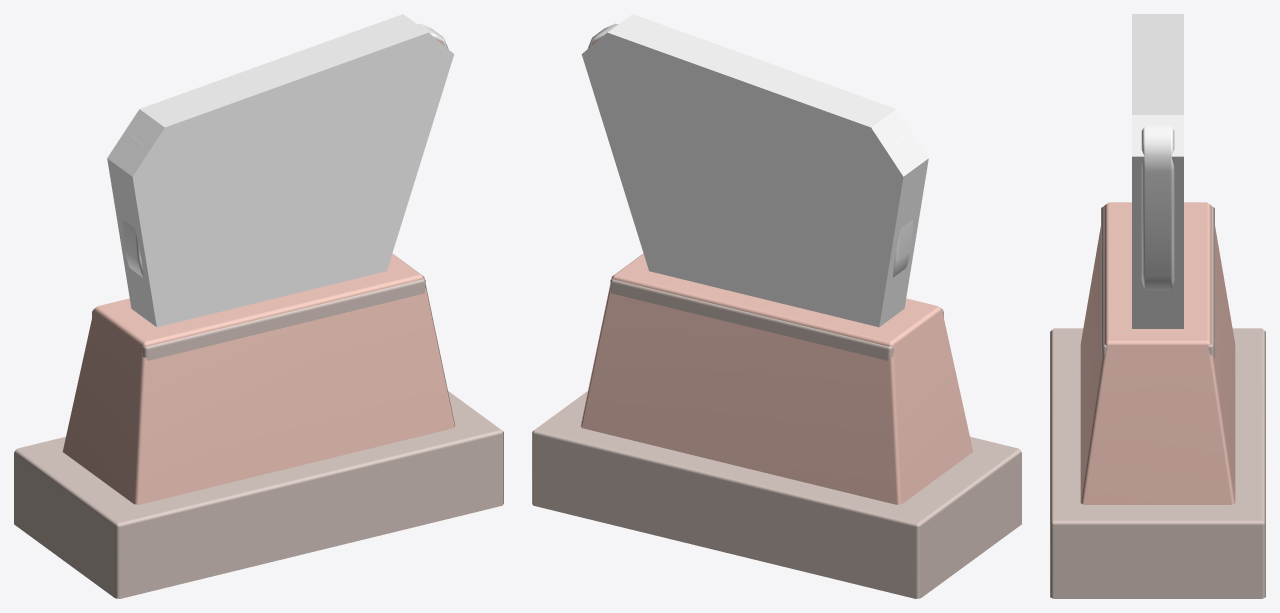
File: ranger_station_sign.dae
3 views of the same model, side by side, from view 1: azimuth 30°, elevation 25°; view 2: azimuth 150°, elevation 25°; view 3: azimuth 270°, elevation 25° (orthographic). The views are drawn at different scales.
Visible parts, largest first — view 1: Colmesh-1, ranger_station_sign_a030; view 2: Colmesh-1, ranger_station_sign_a030; view 3: Colmesh-1, ranger_station_sign_a030.
Part boxes in pixels (bbox=[...]): Colmesh-1: bbox=[62, 14, 455, 504]; ranger_station_sign_a030: bbox=[14, 23, 503, 598]; Colmesh-1: bbox=[580, 14, 973, 504]; ranger_station_sign_a030: bbox=[532, 23, 1021, 598]; Colmesh-1: bbox=[1080, 14, 1235, 504]; ranger_station_sign_a030: bbox=[1050, 125, 1265, 598].
Bounding box in the file's own units: 3.56 × 1.67 × 3.96.
